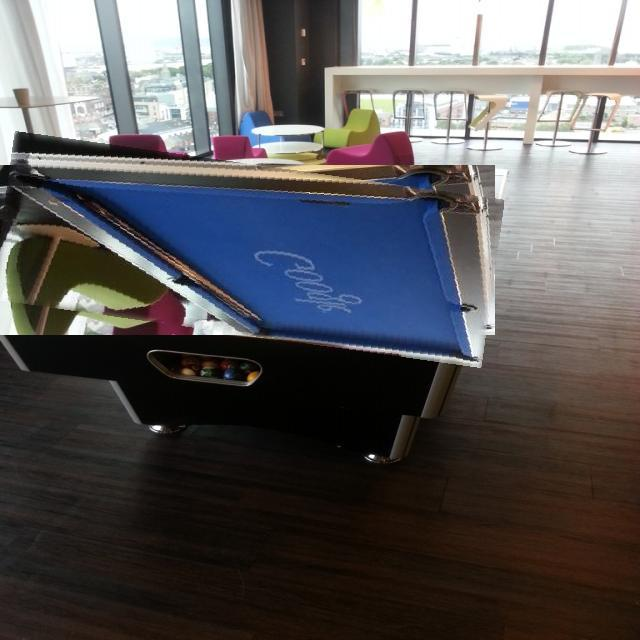Billiard table: (0, 148, 499, 351)
